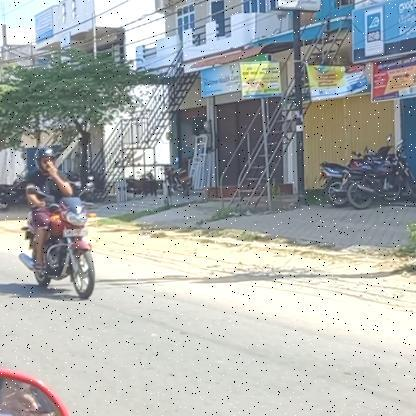motorcycle: (16, 195, 100, 302)
